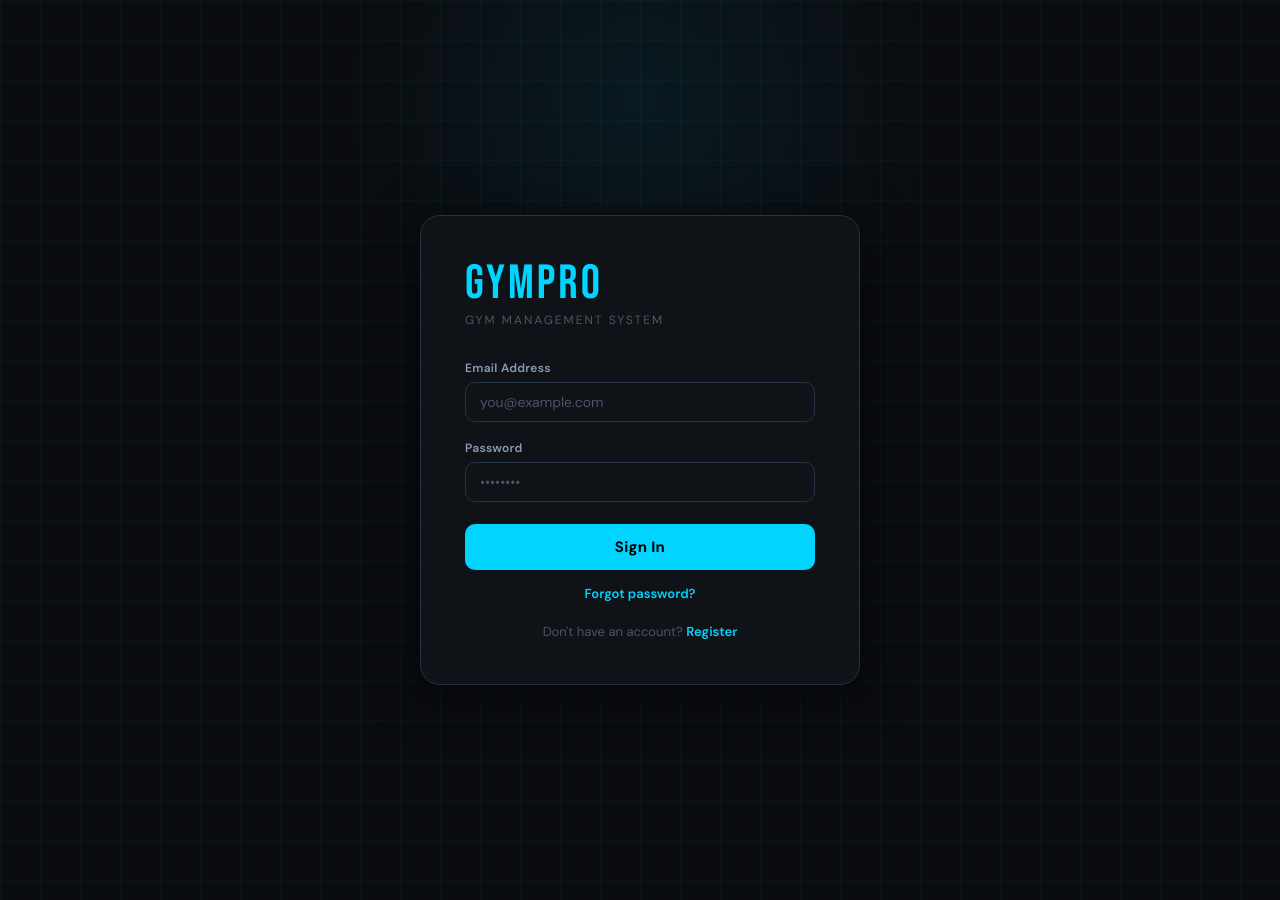
Test: Login › shows error alert on failed login
Type "bad@email.com" into the field with placeholder "you@example.com" at (640,402), box [465,382,815,422]
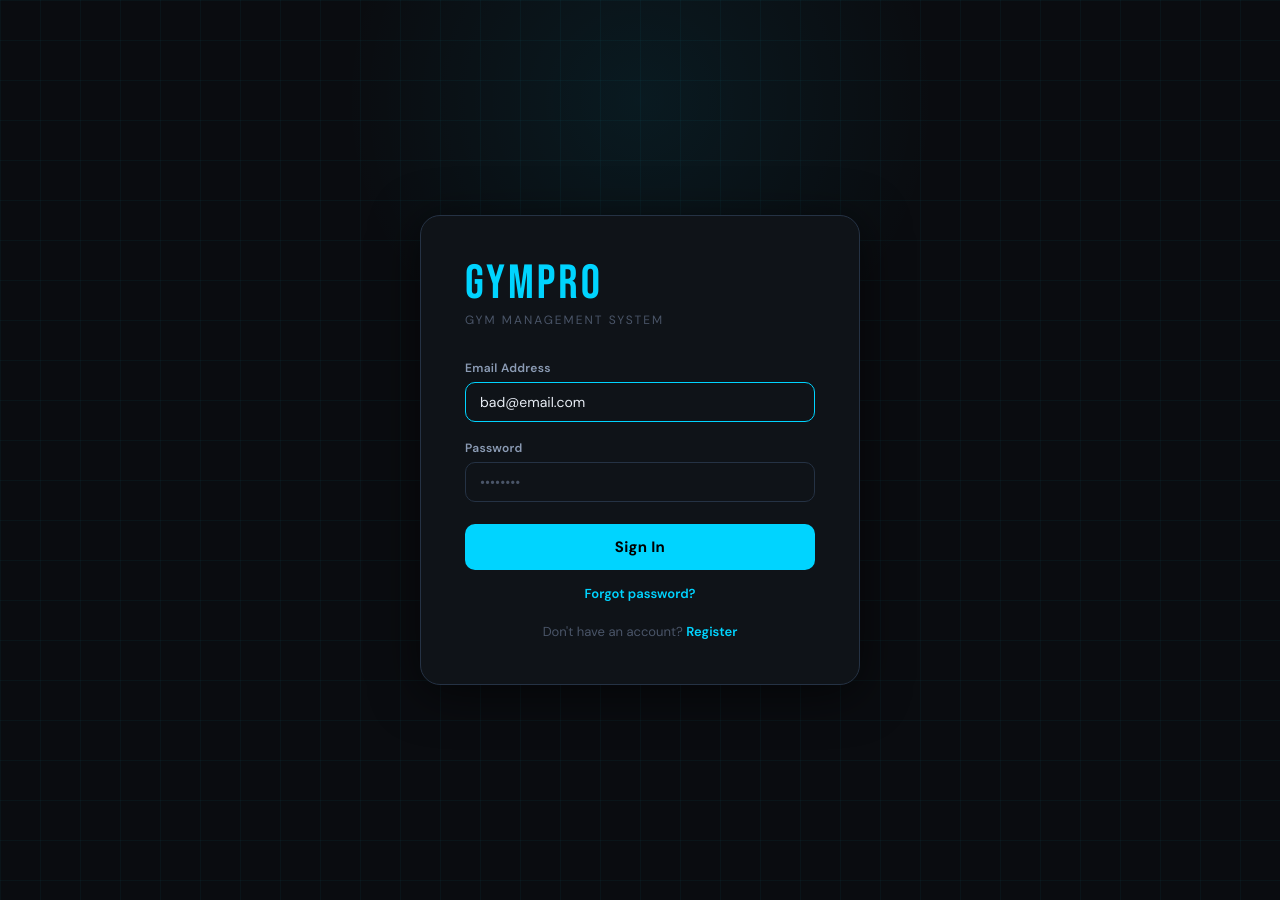
Type "wrongpass" into the password field with placeholder "••••••••" at (640,482), box [465,462,815,502]
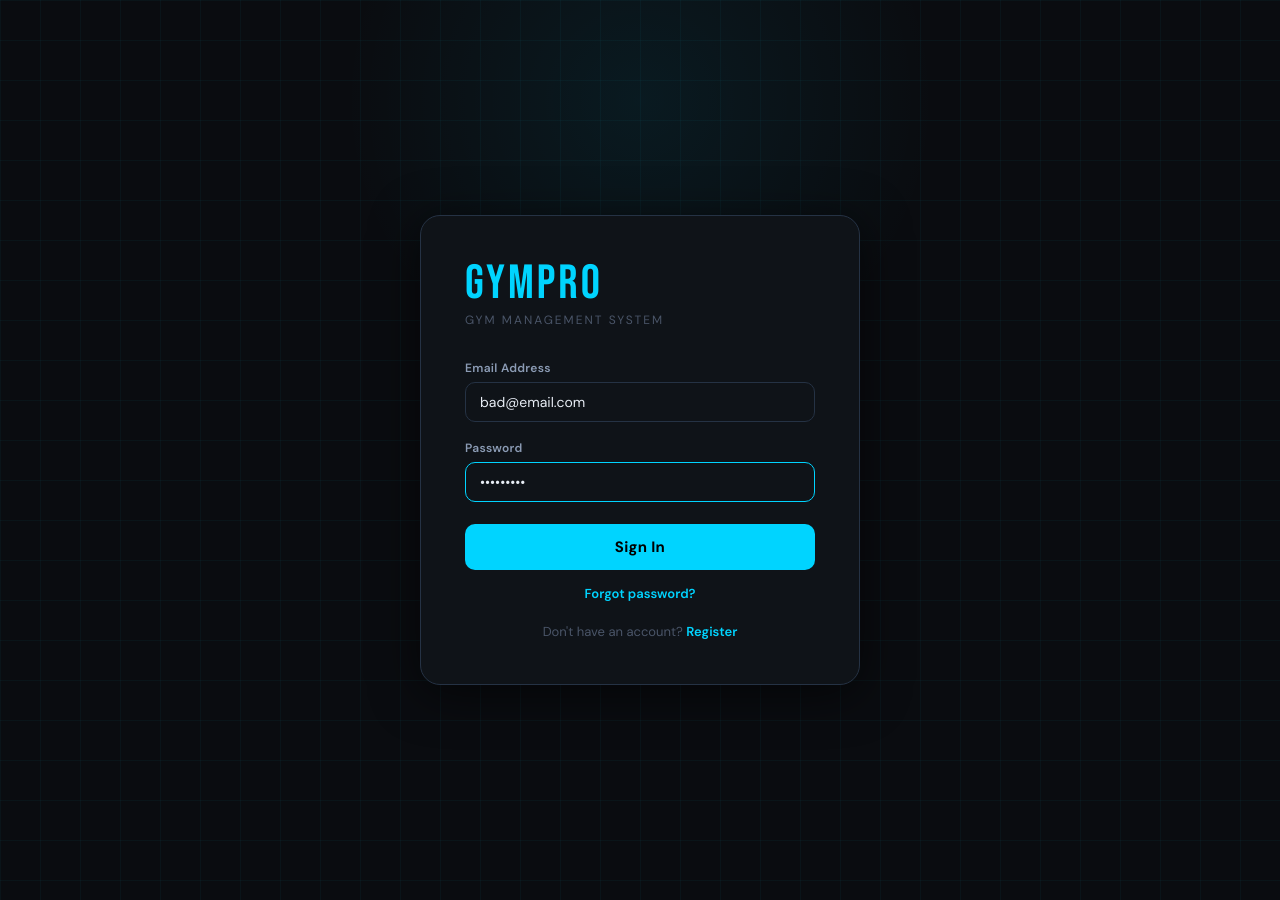
Click the button "Sign In" at (640,547), box [465,524,815,570]
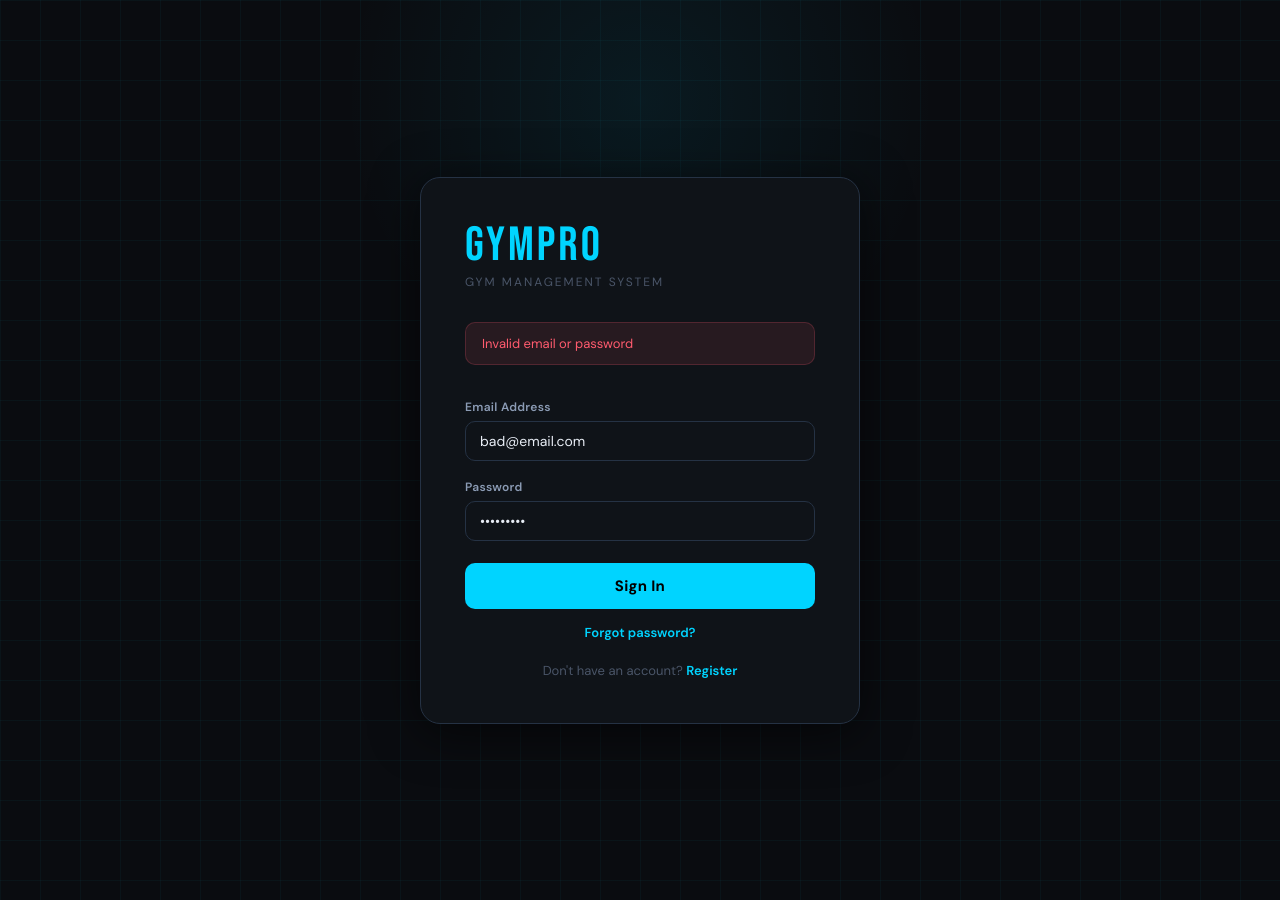
Expected: the text "Invalid email or password" is shown, [465,322,815,364]
